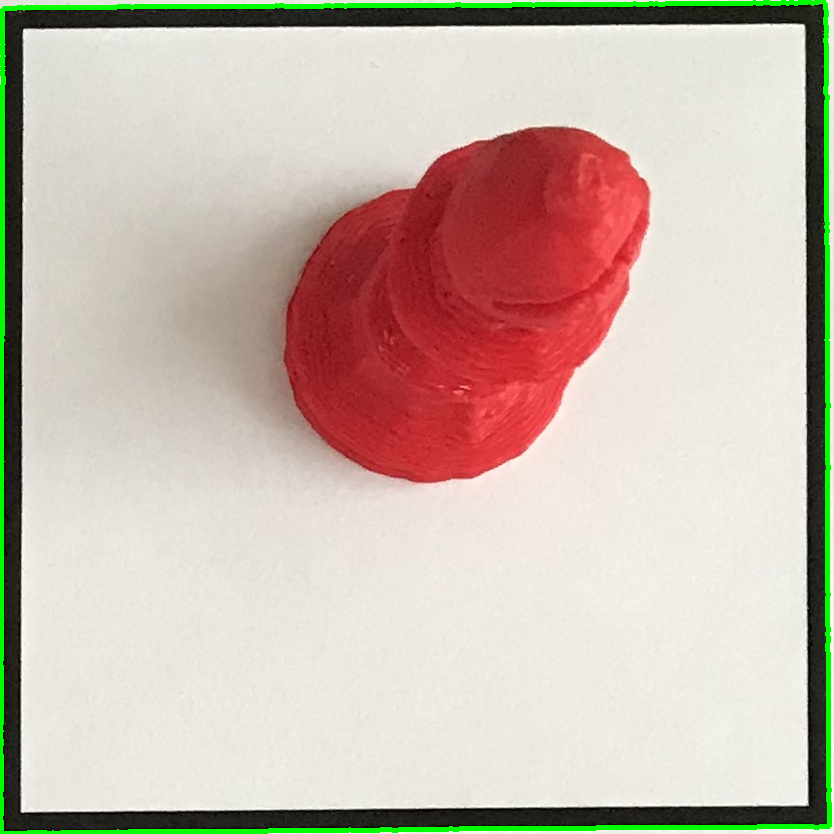Red Bishop: (270, 113, 663, 495)
